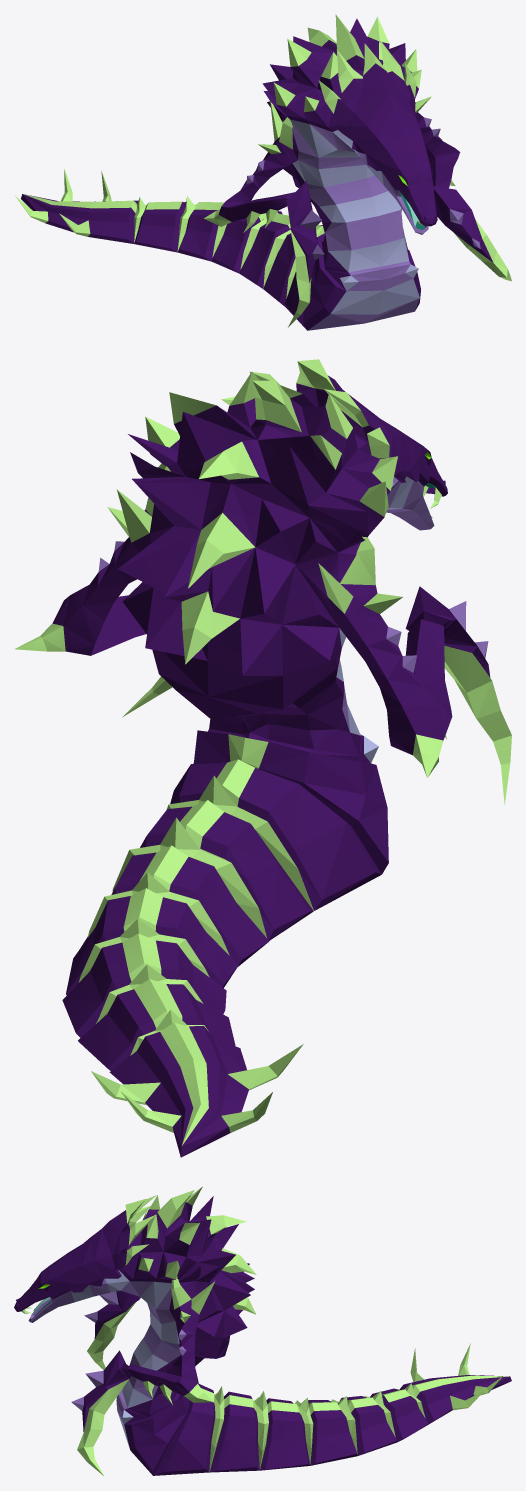
The picture shows the model from 3 angles, top to bottom: view 1: azimuth 30°, elevation 25°; view 2: azimuth 150°, elevation 25°; view 3: azimuth 270°, elevation 25°; orthographic projection. The views are drawn at different scales.
Visible parts, largest first — view 1: Alien_Serpent; view 2: Alien_Serpent; view 3: Alien_Serpent.
Part boxes in pixels (box(x1,y1,x2,y2)): Alien_Serpent: box(14, 14, 511, 330); Alien_Serpent: box(14, 359, 511, 1157); Alien_Serpent: box(14, 1186, 511, 1476).
Bounding box in the file's own units: 226 × 217 × 374.
Materials: 1 (1 with a texture image).
